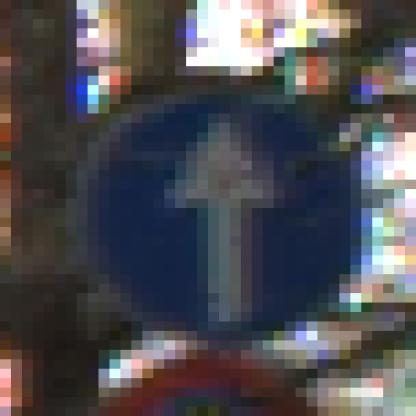AheadOnly: (56, 58, 351, 360)
